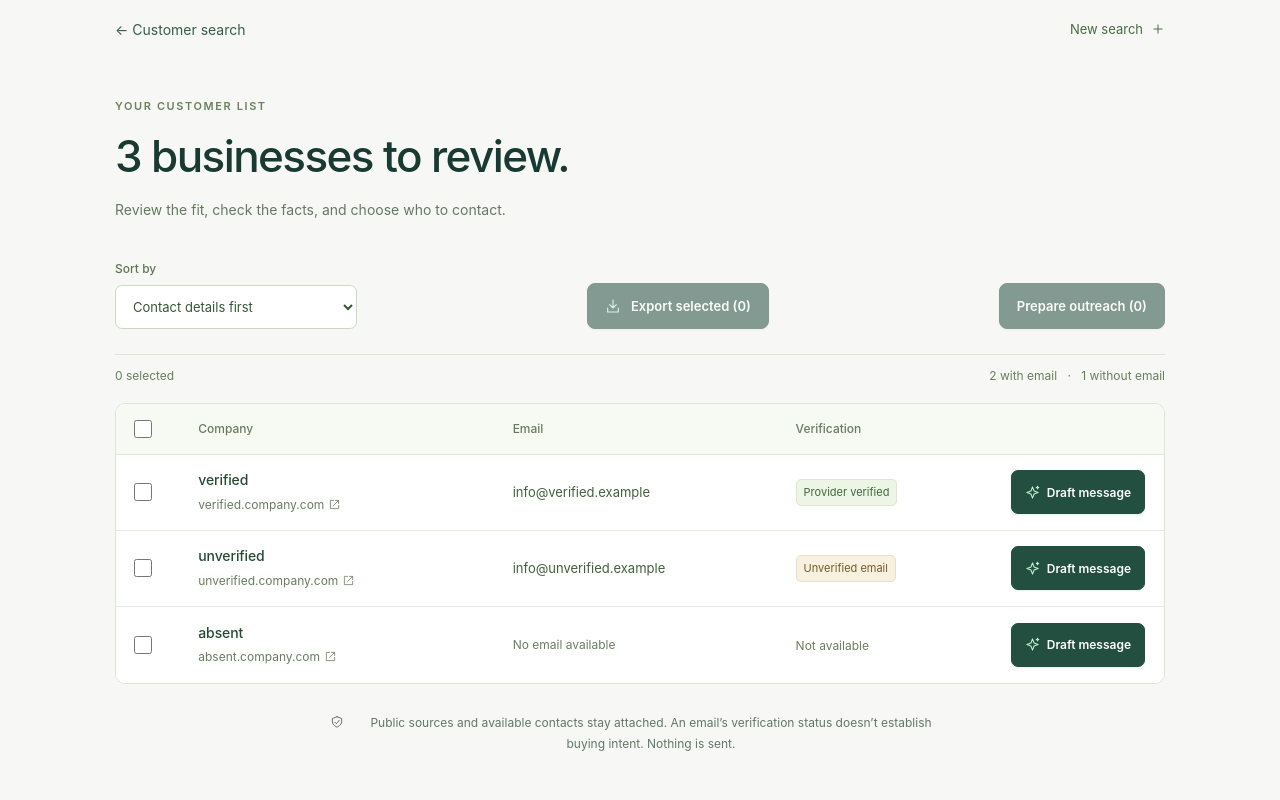
Test: dedicated customer results › uses a semantic lead table and a mixed select-all checkbox without exposing research copy
The width and height of the screenshot is (1280, 800).
Click the checkbox named "Select verified": (143, 492) x1=134 y1=483 x2=152 y2=501
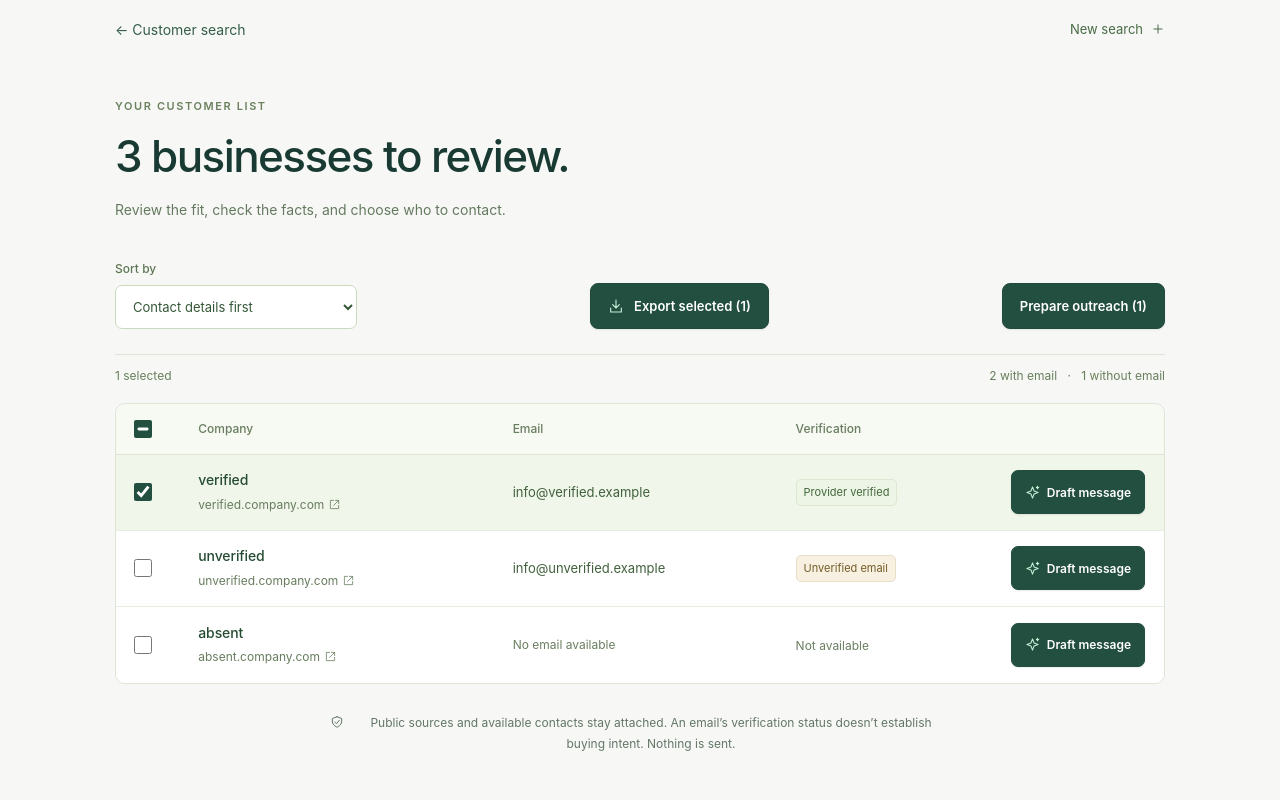
Click the checkbox named "Select all businesses": (143, 429) x1=134 y1=420 x2=152 y2=438
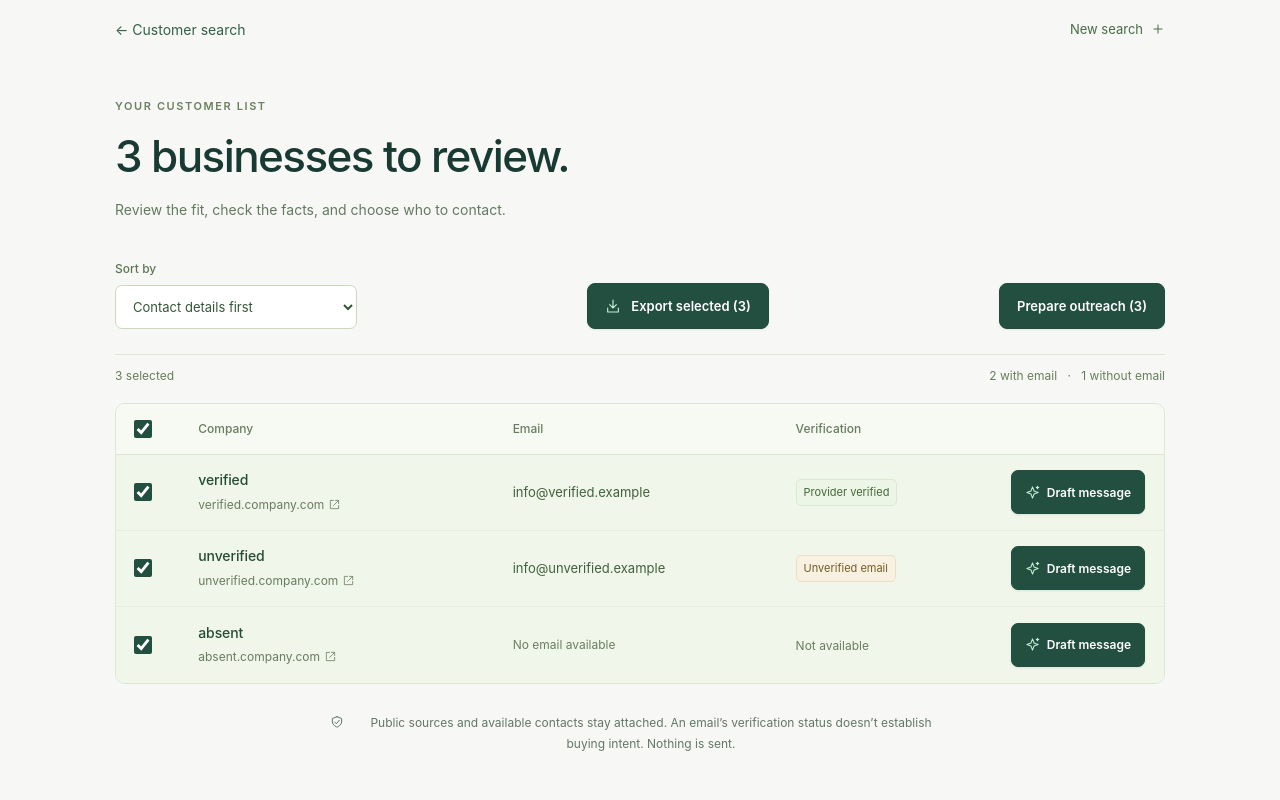
Result: the checkbox named "Select all businesses" is checked
Result: the text "Export selected (3)" is shown at x1=587 y1=283 x2=769 y2=329
Click the checkbox named "Select all businesses": (143, 429) x1=134 y1=420 x2=152 y2=438
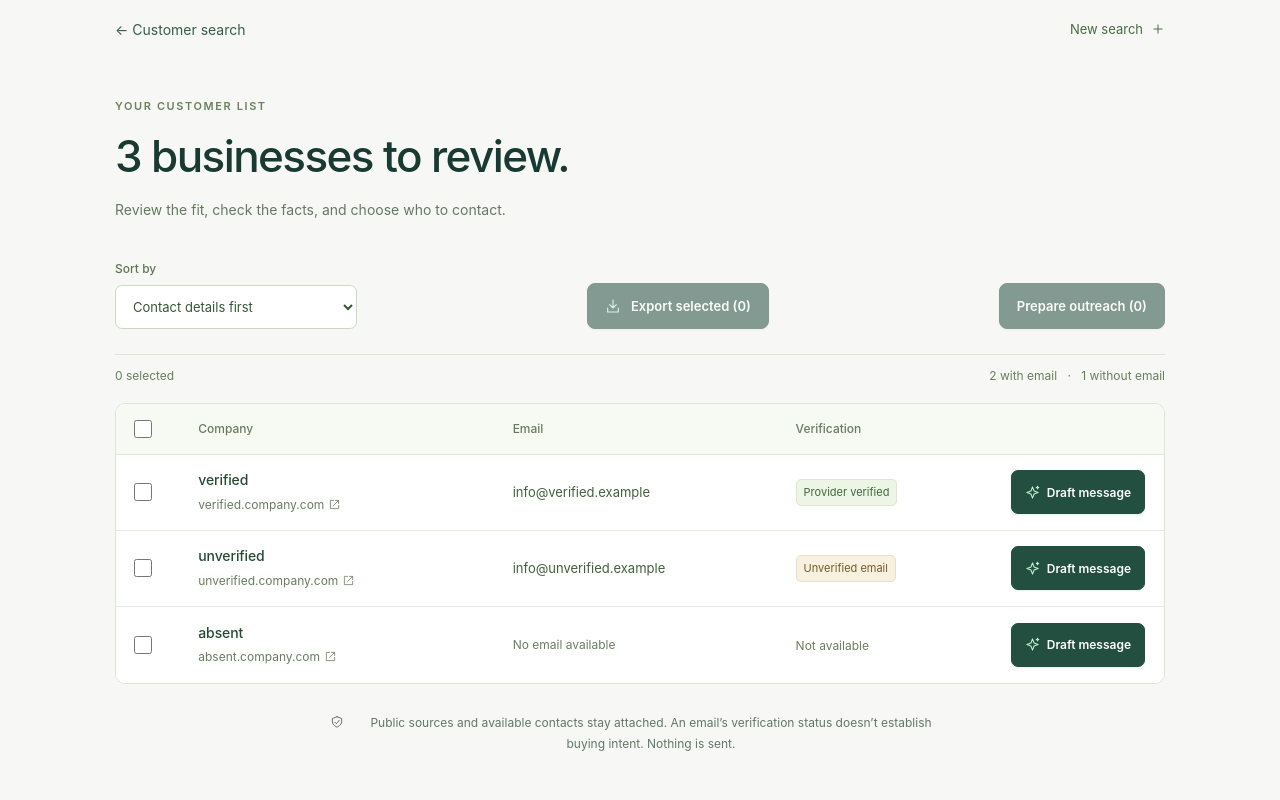
Result: the checkbox named "Select all businesses" is not checked at x1=134 y1=420 x2=152 y2=438
Result: the text "Export selected (0)" is shown at x1=587 y1=283 x2=769 y2=329
